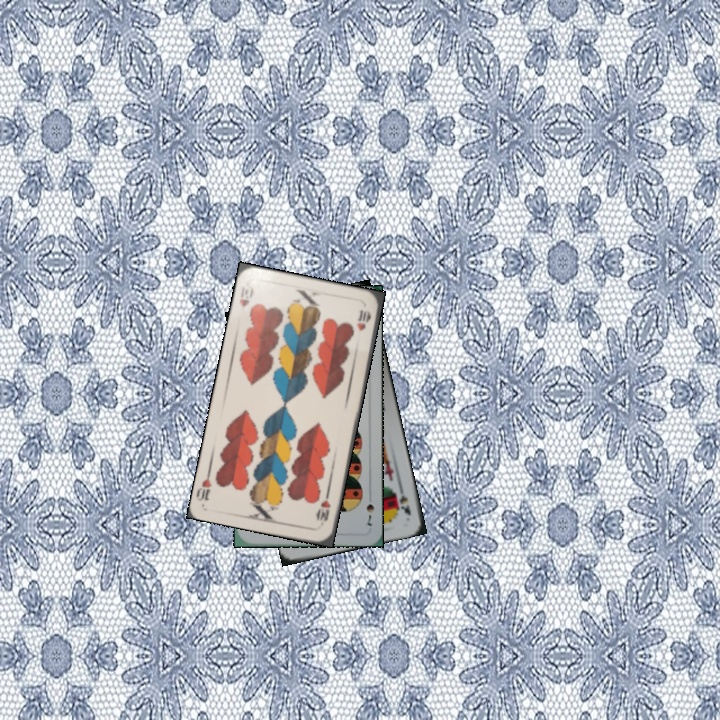H10: (313, 488, 333, 528), (235, 279, 256, 310)
S7: (362, 489, 377, 529)
SK: (394, 481, 413, 518)
